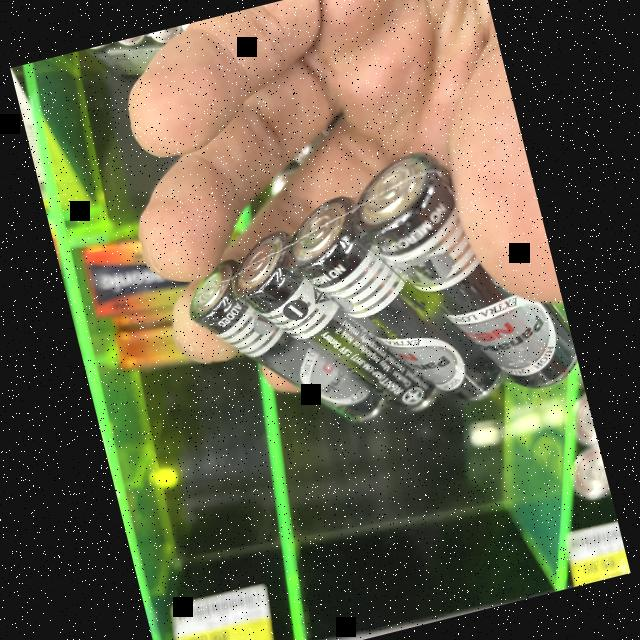battery: (346, 123, 581, 419), (289, 161, 522, 436), (162, 234, 397, 471), (229, 203, 446, 449)
